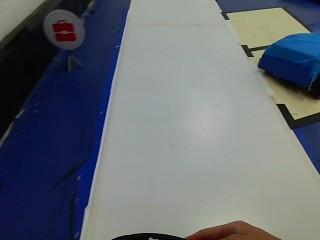company: (43, 12, 84, 50)
